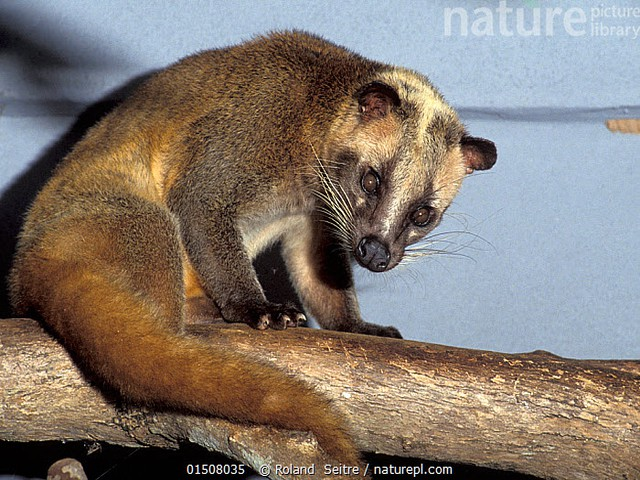civet: (12, 28, 502, 466)
